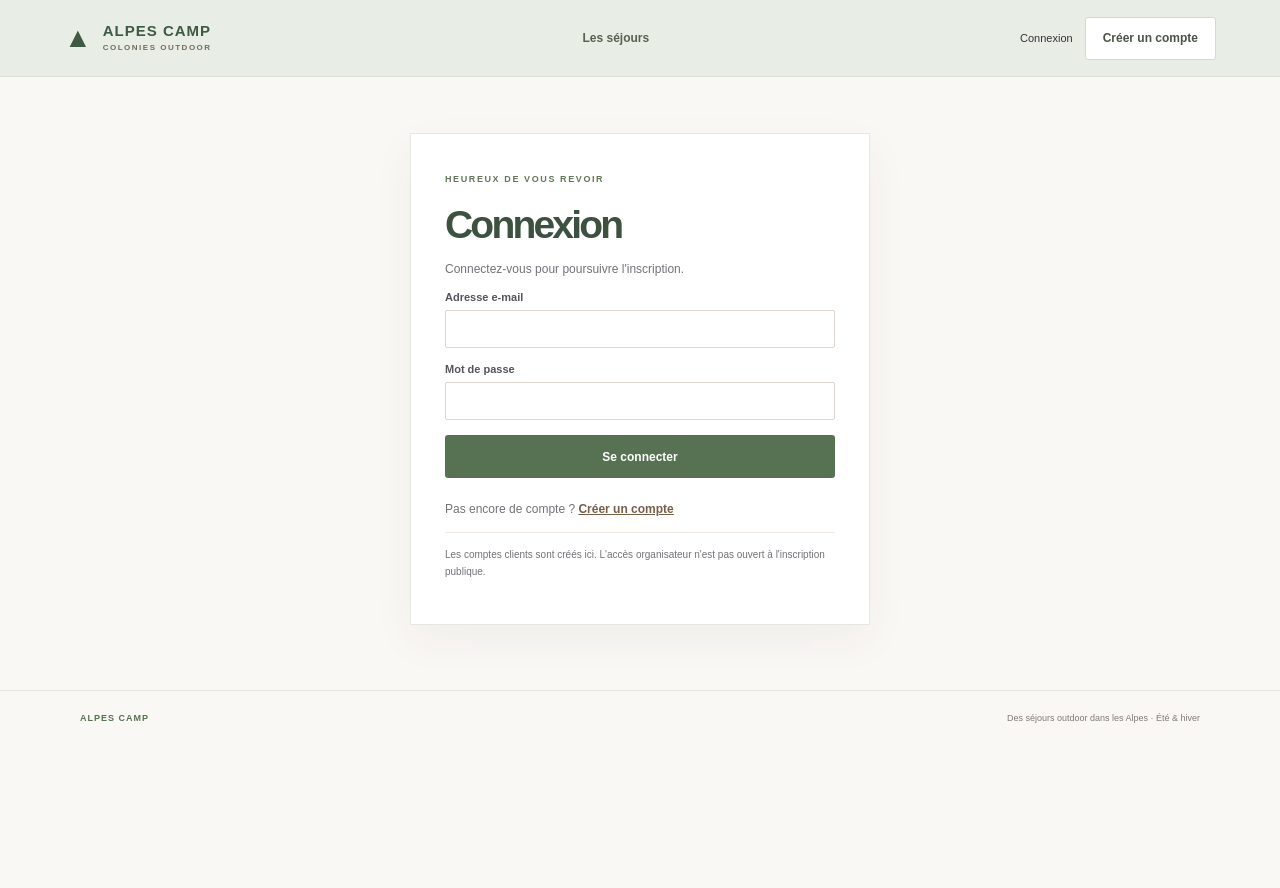
Test: application Alpes Camp › impose la connexion puis transmet une inscription avec consentement
The image size is (1280, 888).
Check: the heading "Connexion" is shown, box [445,203,621,246]
Type "parent@example.test" into the field labelled "Adresse e-mail".
click(640, 329); type("parent@example.test")  # box [445,310,835,348]
Type "mot-de-passe-test" into the password field labelled "Mot de passe".
click(640, 401); type("mot-de-passe-test")  # box [445,382,835,420]
Click the button "Se connecter".
click(640, 457)  # box [445,435,835,478]
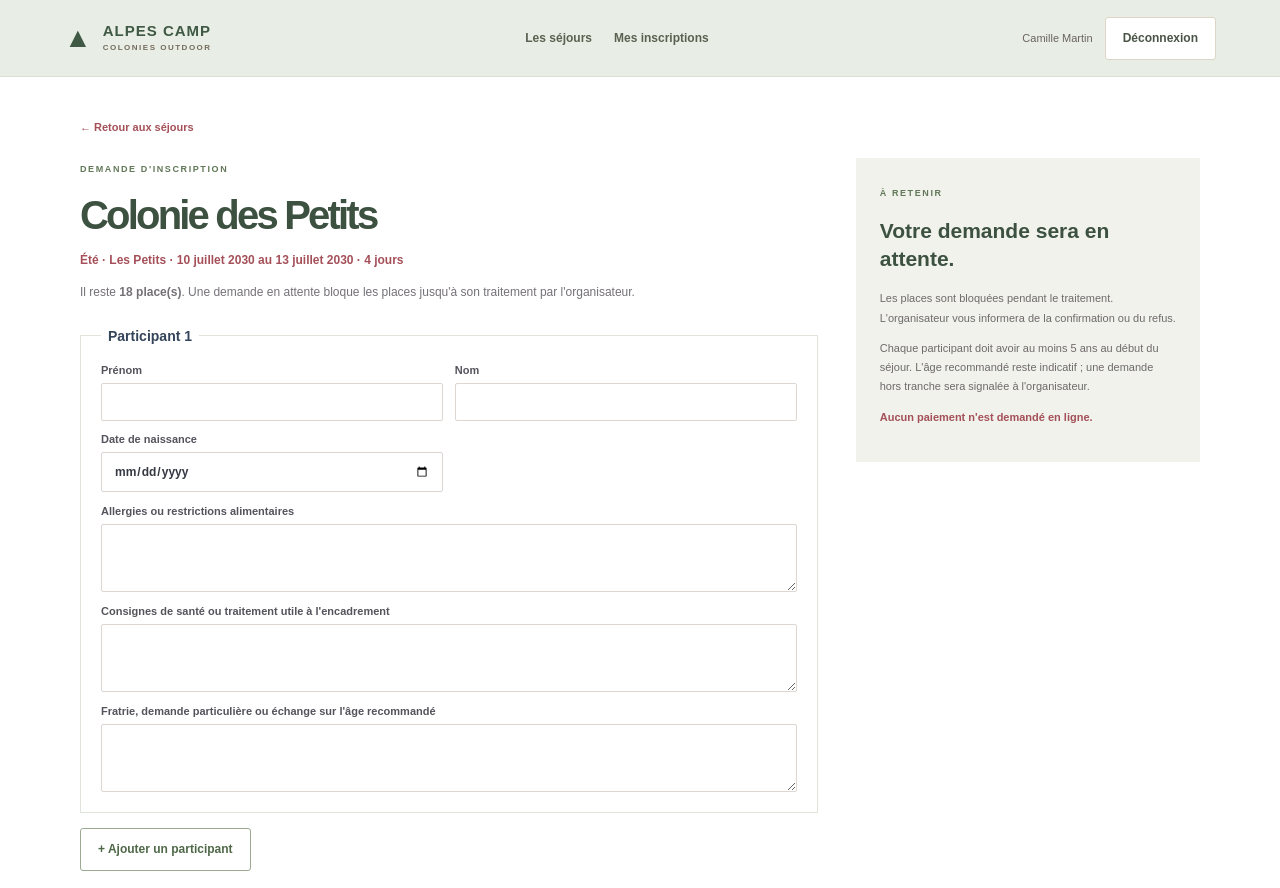
Check: the heading "Colonie des Petits" is shown, box [80,193,376,237]
Type "Lou" into the field labelled "Prénom".
click(272, 402); type("Lou")  # box [101,383,443,421]
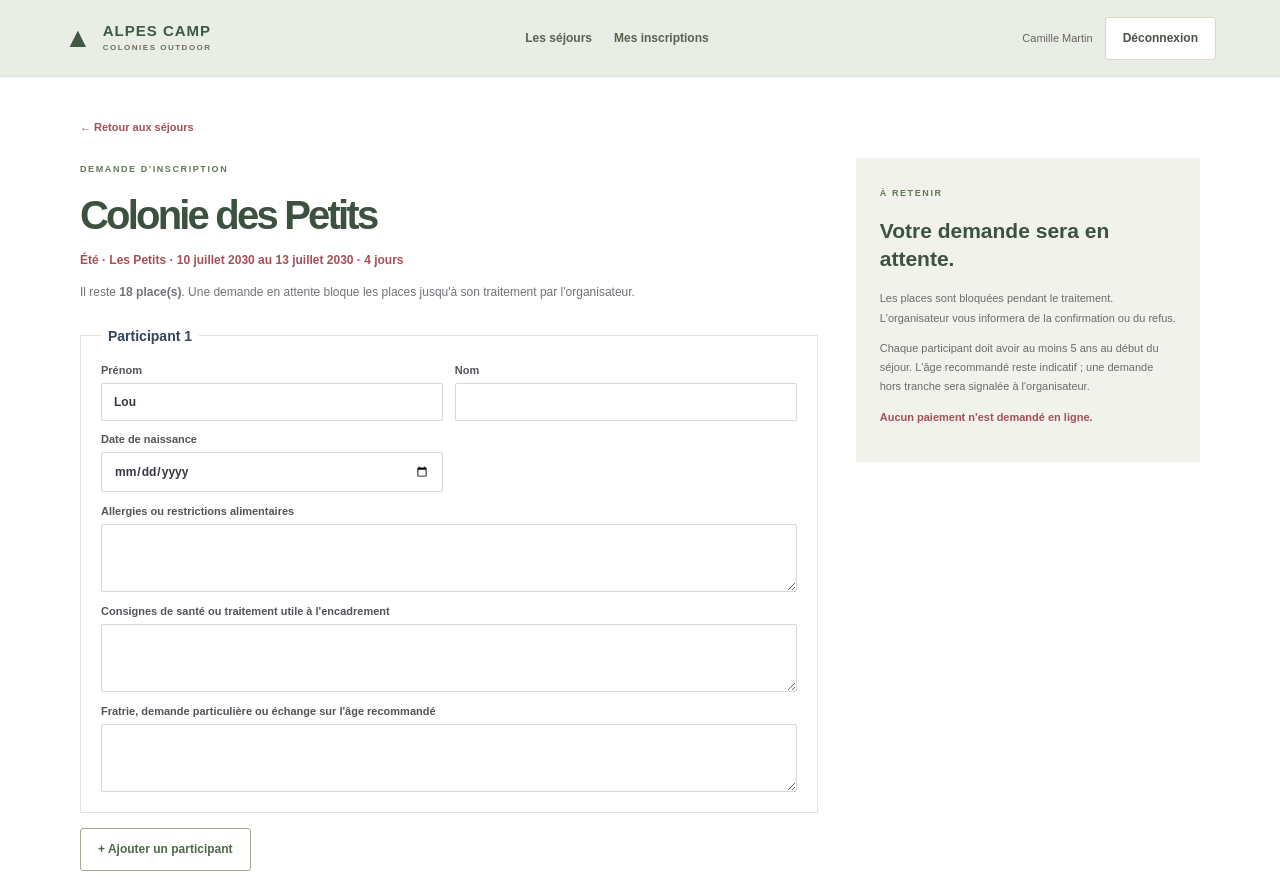
Type "Martin" into the field labelled "Nom".
click(626, 402); type("Martin")  # box [455,383,797,421]
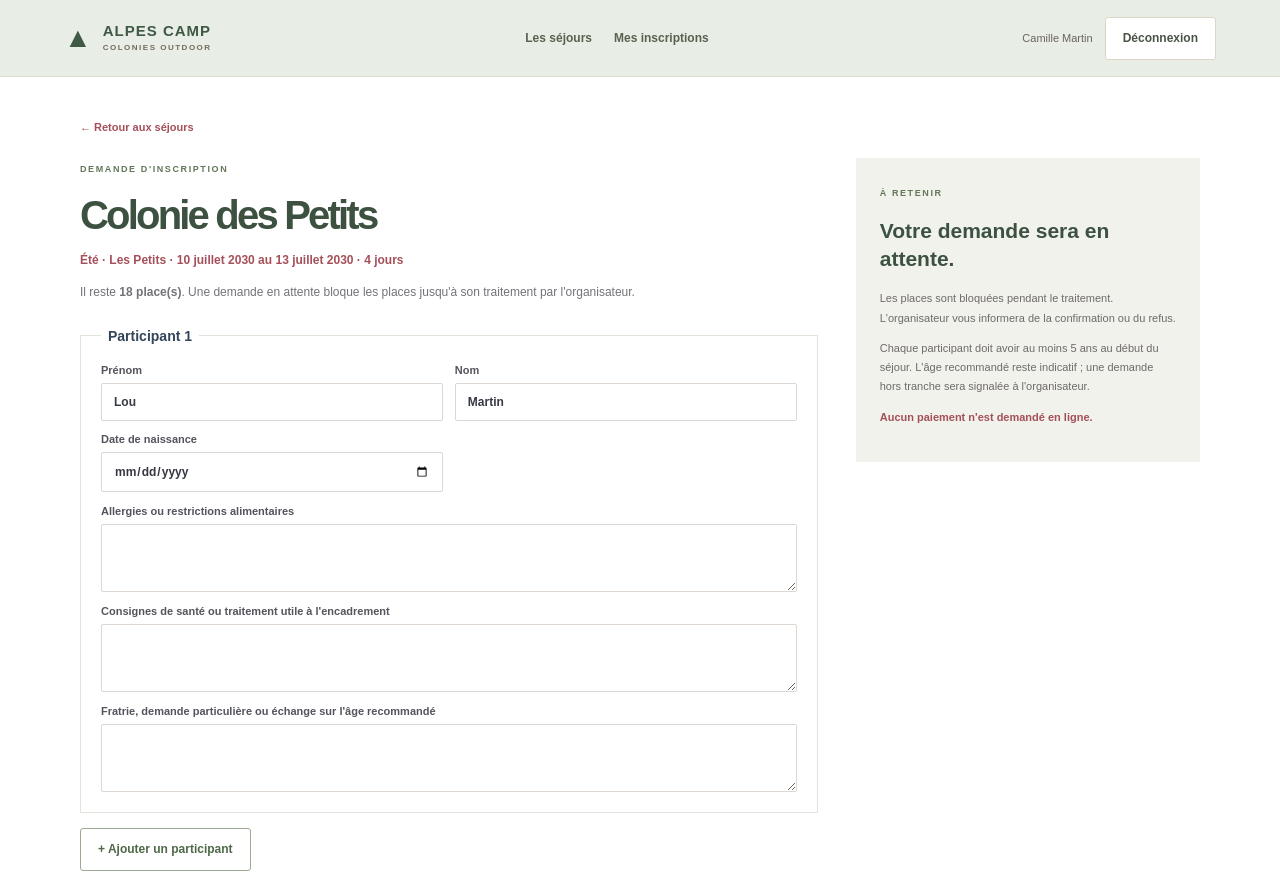
Type "2020-06-01" into the date field labelled "Date de naissance".
click(272, 472); type("2020-06-01")  # box [101,452,443,492]
(page scrolled)
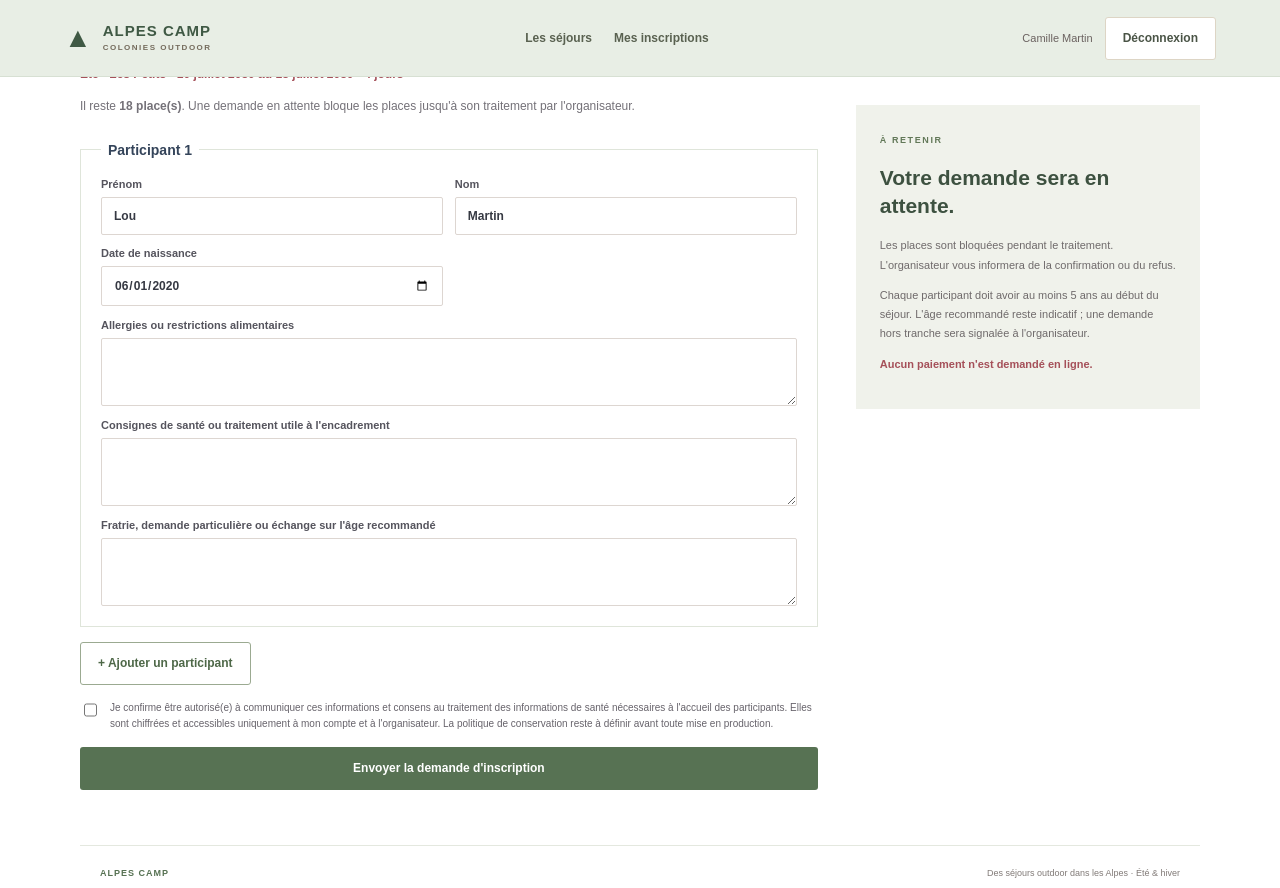
Click the checkbox.
click(90, 710)  # box [84,702,97,718]
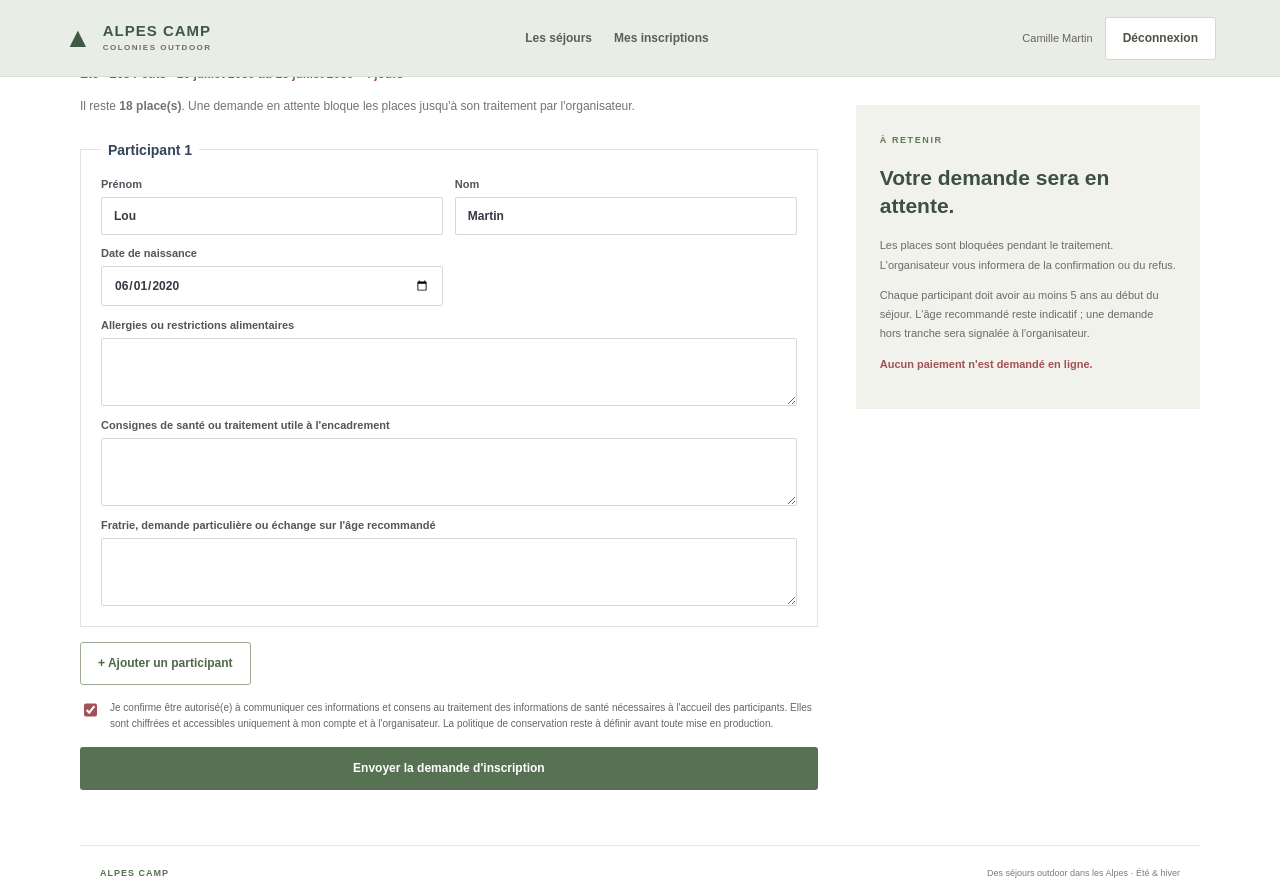
Click the button "Envoyer la demande d'inscription".
click(449, 768)  # box [80,747,818,790]
(page scrolled)
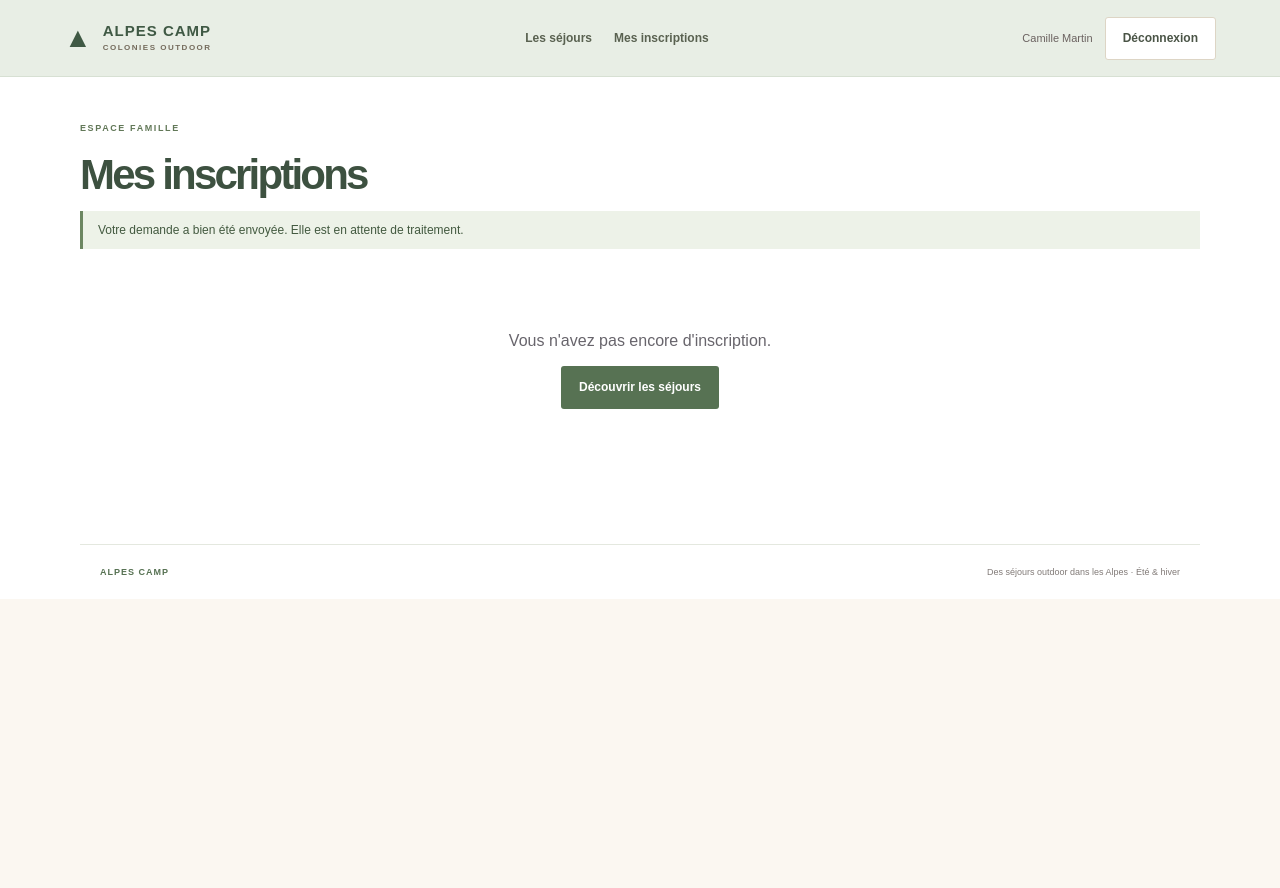
Check: the text "Votre demande a bien été envoyée. Elle est en attente de traitement." is shown, box [80,211,1200,249]
